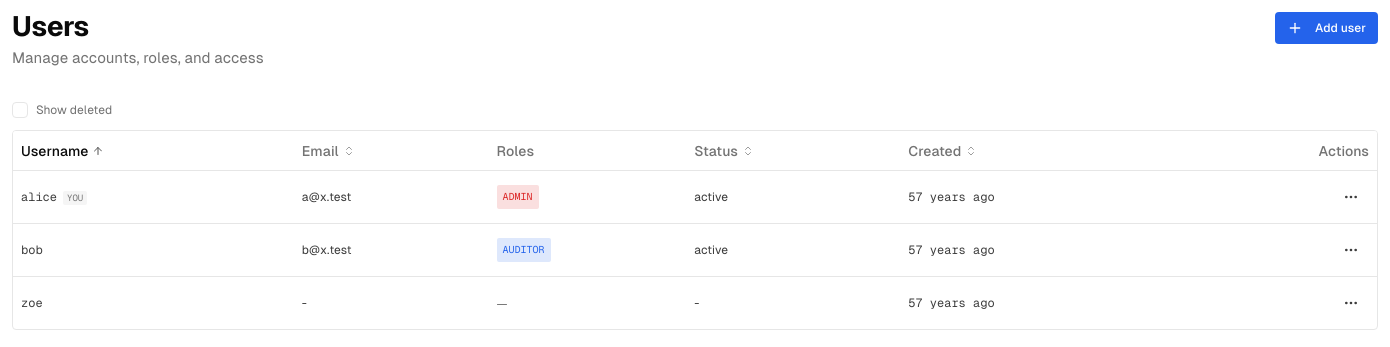
Scenario: UsersPage — dialogs and actions › hides Delete in the current user's own row menu
Click the button named "User actions" in the row of "alice": (1351,197) [1333,179,1369,215]
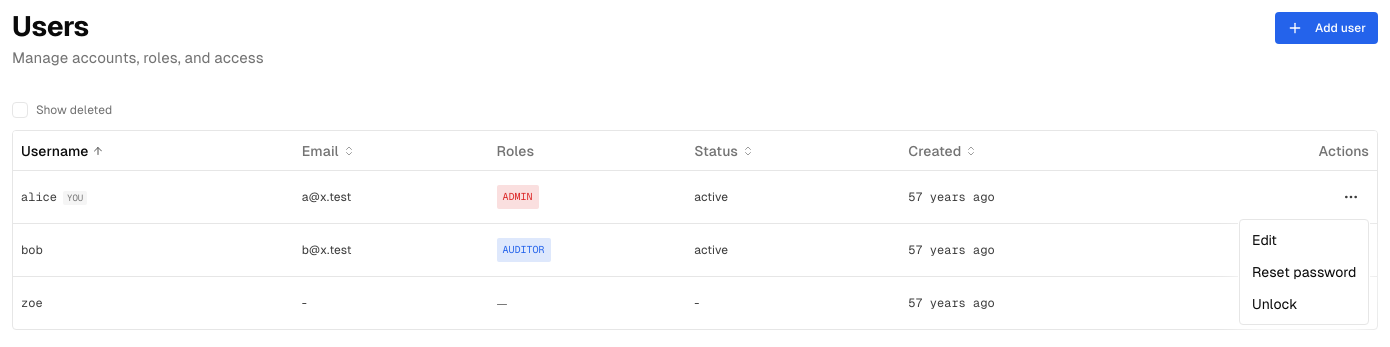
Now the menu item "Edit" is shown, box [1252,232,1277,248]
